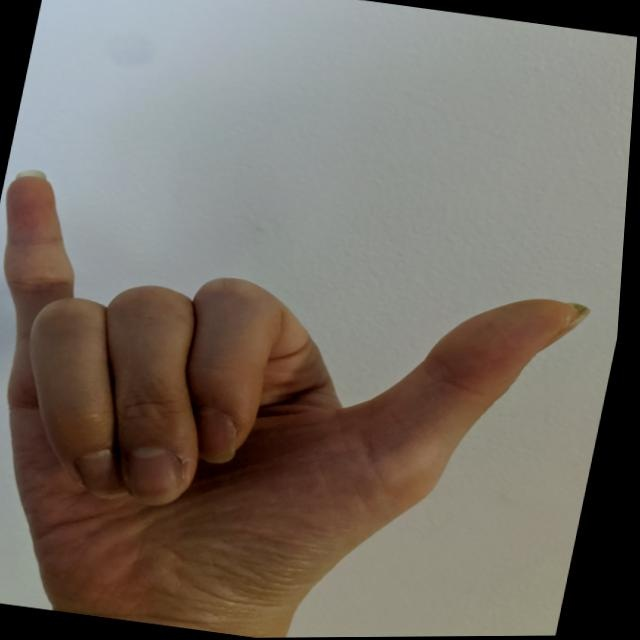Y: (0, 158, 621, 639)
